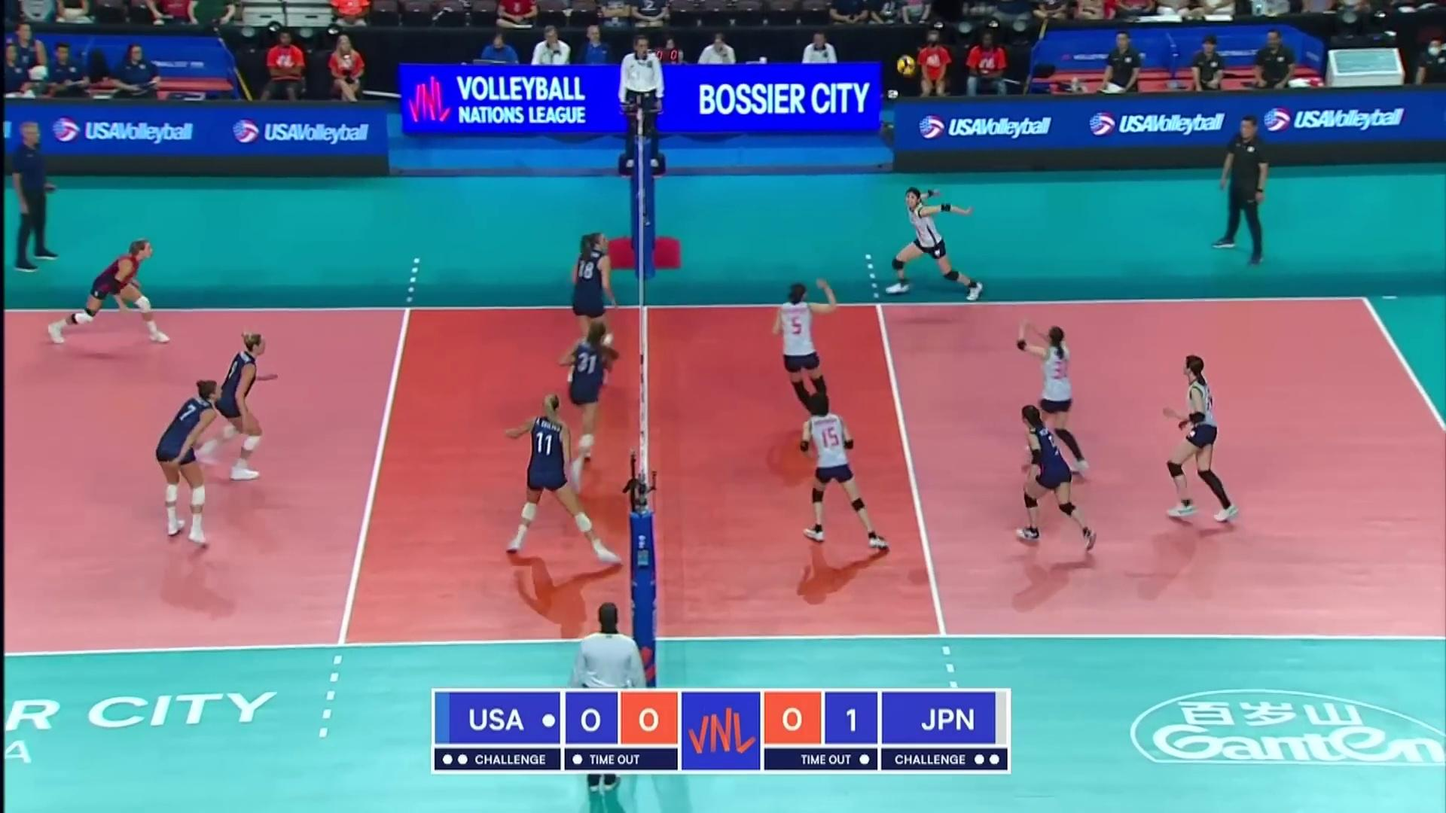player: (503, 392, 623, 569), (801, 394, 891, 553), (1161, 354, 1241, 521), (1011, 320, 1095, 472), (49, 239, 167, 346), (192, 333, 277, 479), (1014, 403, 1096, 552), (154, 378, 224, 546), (771, 279, 846, 430), (888, 187, 986, 297), (558, 322, 615, 493), (566, 231, 618, 385)
refree: (573, 601, 650, 789), (618, 35, 664, 168)
